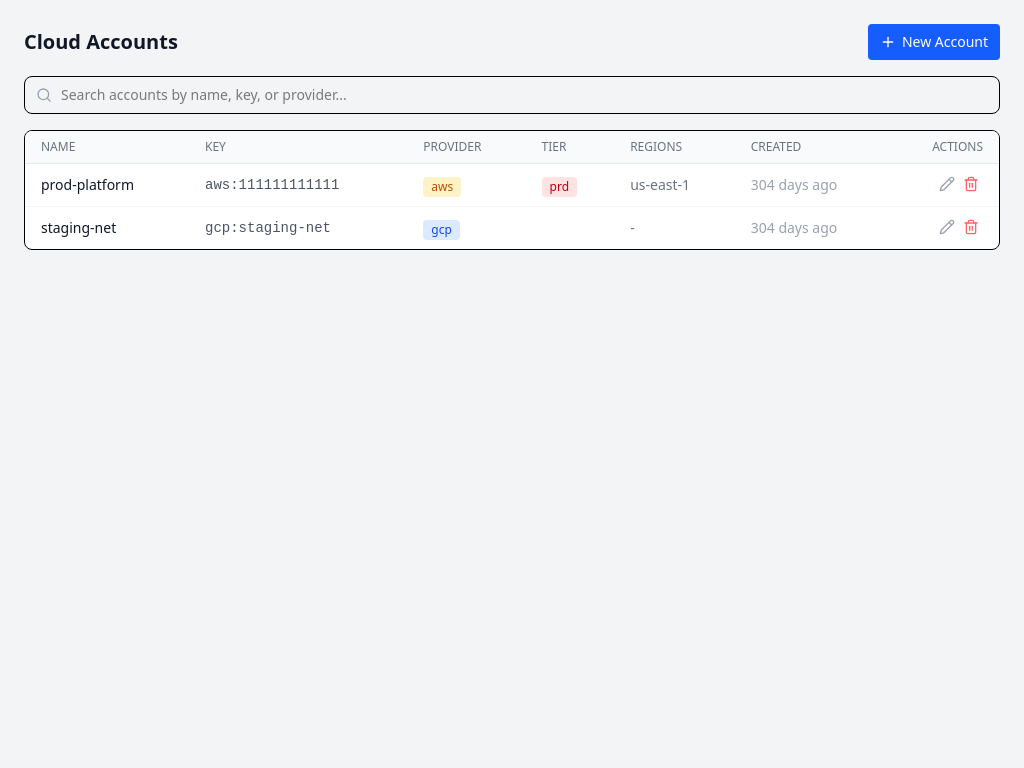
Test: AccountsPage edit › sends a PATCH carrying the changed fields and keeping the untouched ones
Click the button named "Edit" in the row of "prod-platform" at (947, 184), box [935, 172, 959, 196]
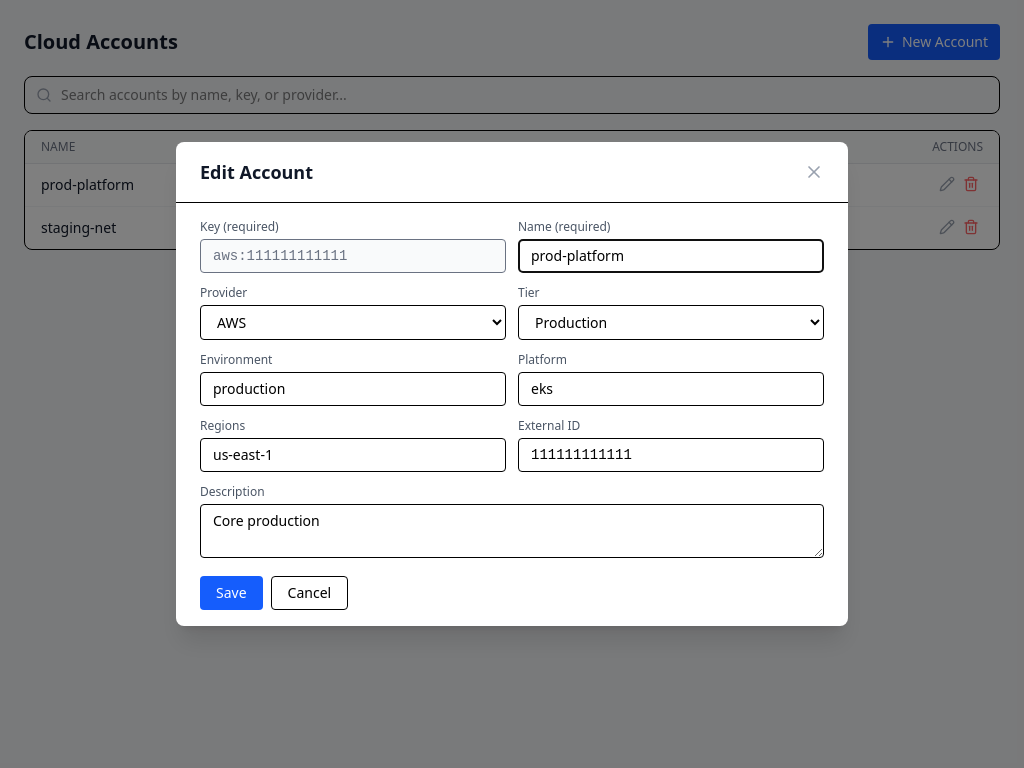
Replace the text in the field labelled "Name (required)" with "prod-renamed" at (671, 256), box [518, 239, 824, 273]
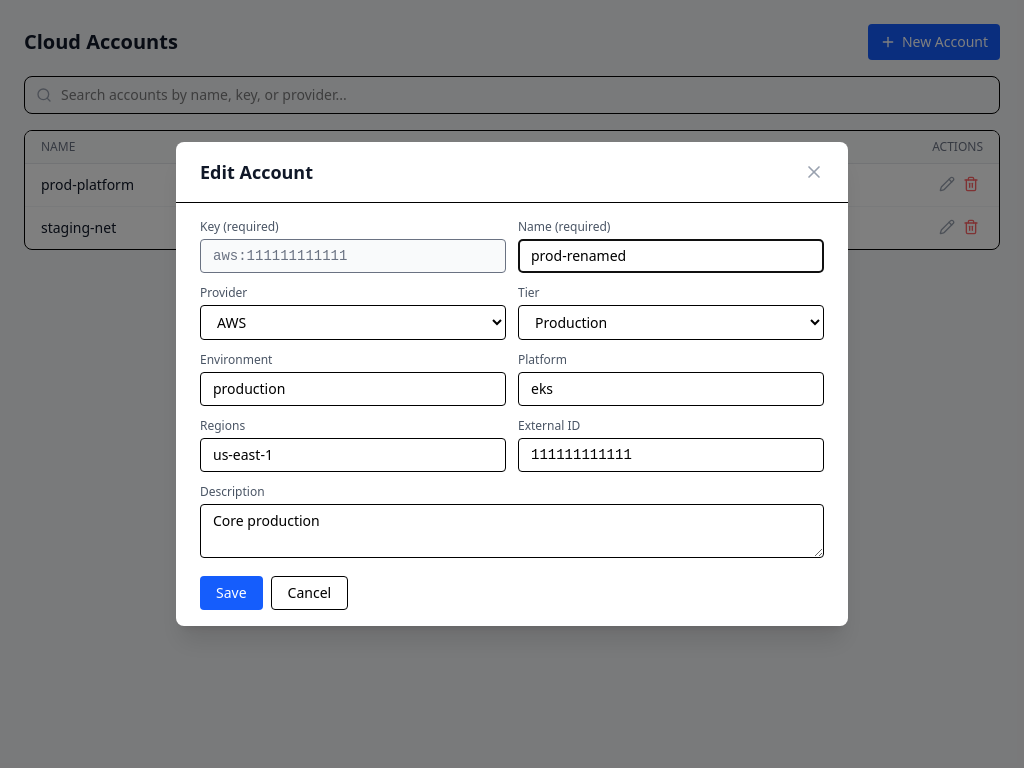
Replace the text in the field labelled "Regions" with "us-east-1, us-west-2," at (353, 455), box [200, 438, 506, 472]
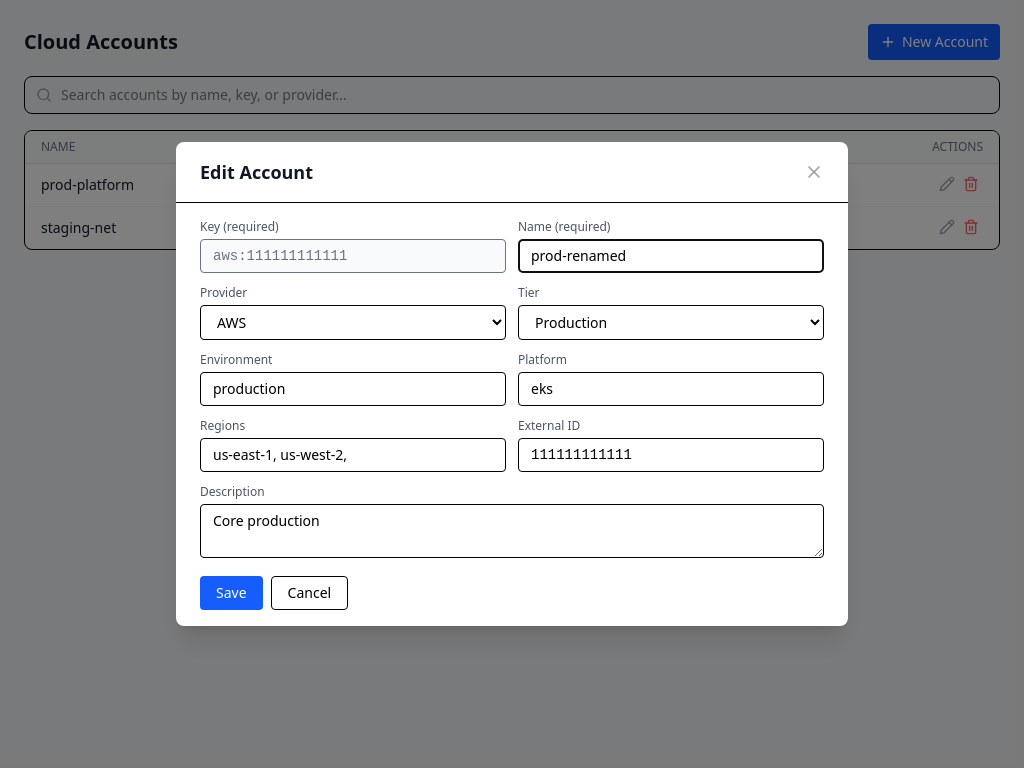
Click the button "Save" at (231, 593), box [200, 576, 263, 610]
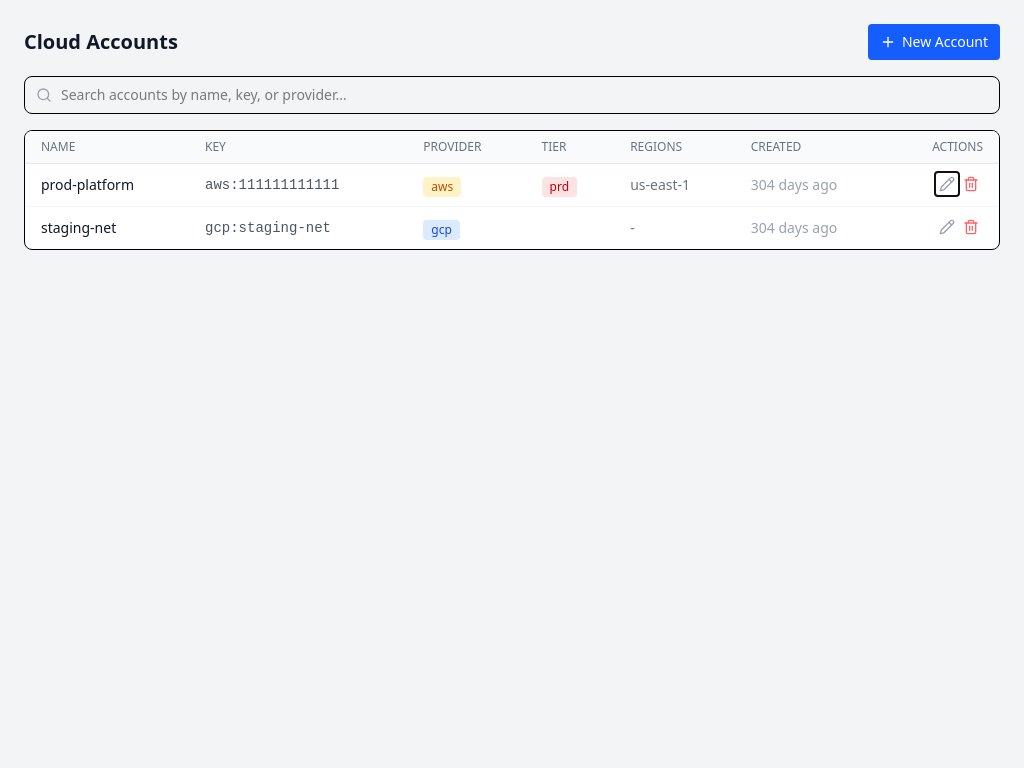
Expected: the dialog is gone
